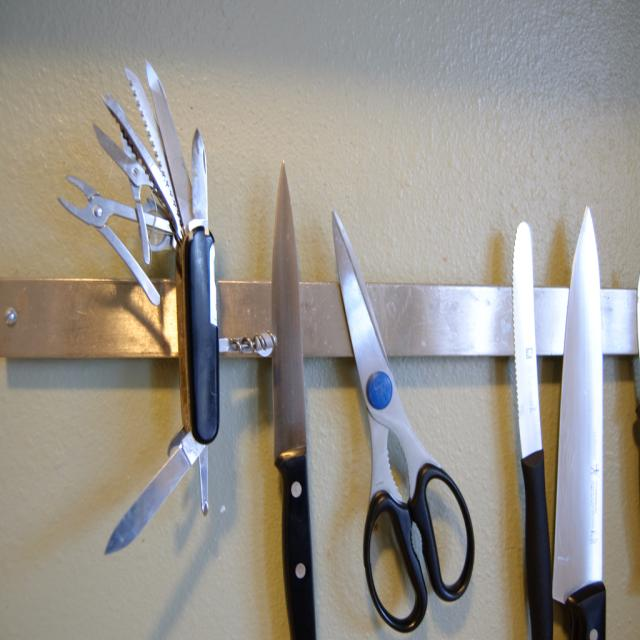scissors: (331, 208, 475, 632), (90, 89, 168, 257)
